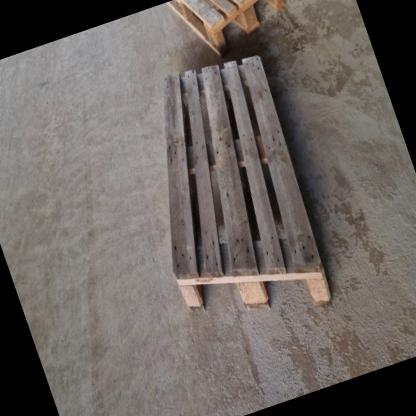BoxFace: (162, 54, 338, 318), (162, 0, 291, 62)
